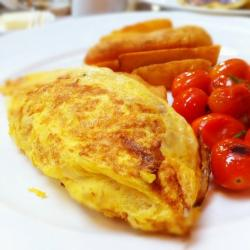hotdog: (84, 14, 225, 84)
omelette: (1, 67, 212, 240)
